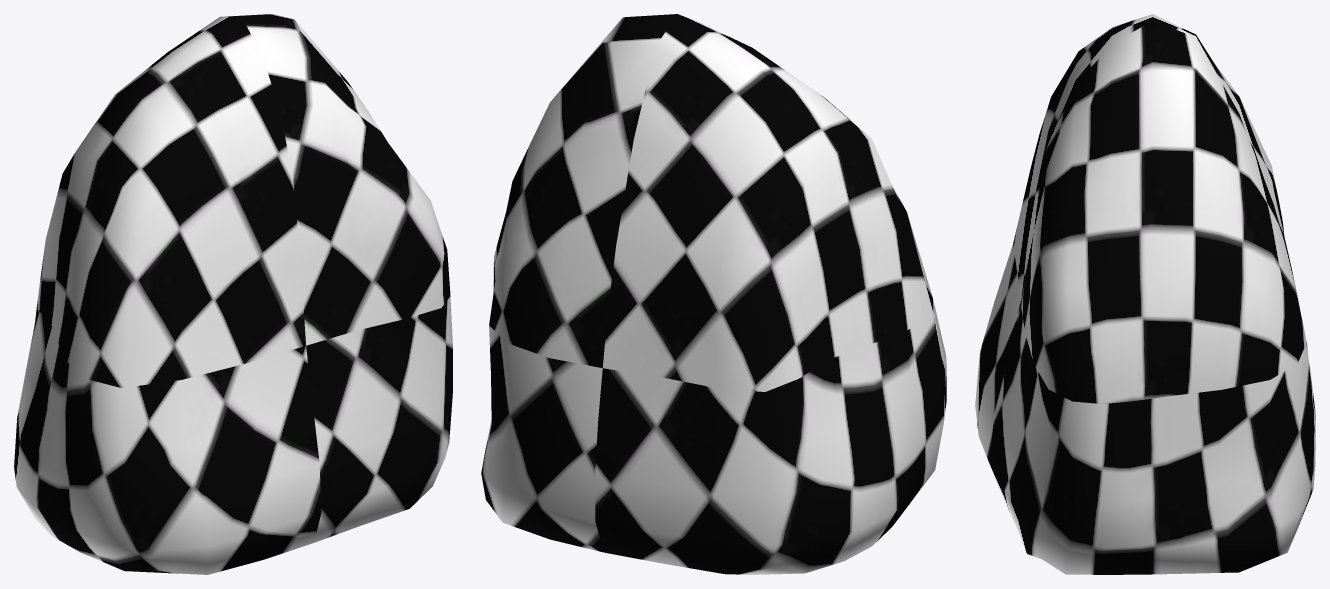
Rendered from Rock1.fbx.
3 renders of one model, left to right at view 1: azimuth 30°, elevation 25°; view 2: azimuth 150°, elevation 25°; view 3: azimuth 270°, elevation 25°, orthographic. The views are drawn at different scales.
Visible parts, largest first — view 1: Rock2; view 2: Rock2; view 3: Rock2.
Boxes of the visible parts, bbox=[...] form: Rock2: bbox=[14, 14, 452, 574]; Rock2: bbox=[481, 14, 946, 574]; Rock2: bbox=[975, 14, 1315, 574].
Bounding box in the file's own units: 0.743 × 0.8878 × 0.5567.
